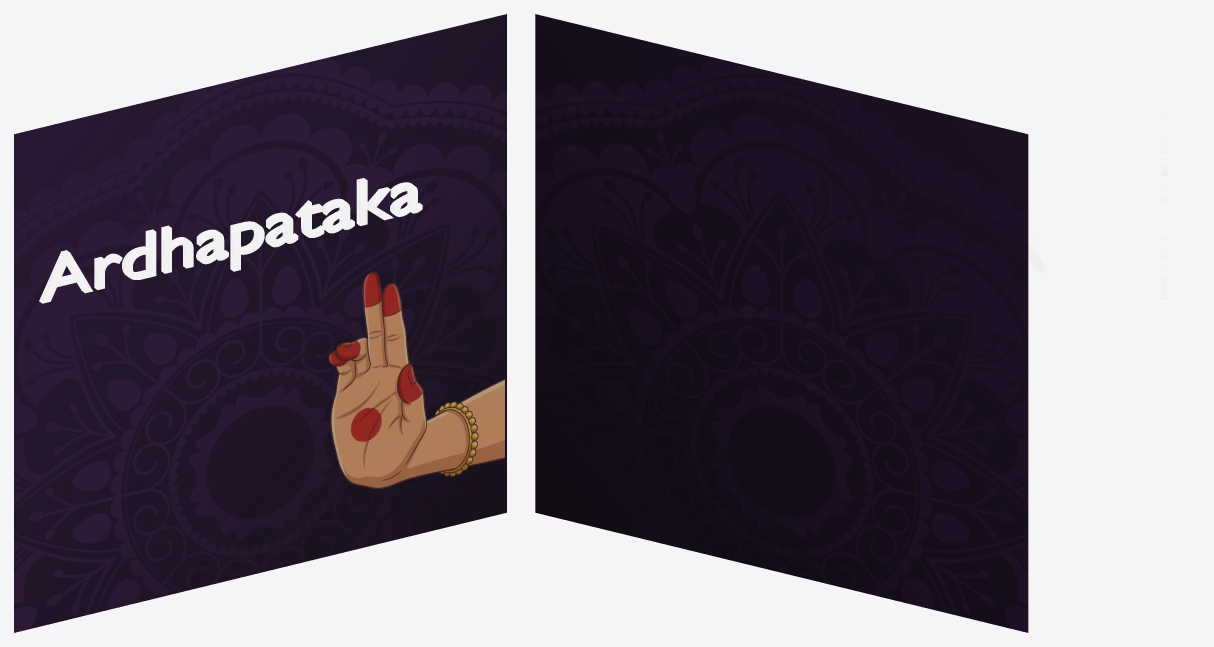
File: Ardhapataka.glb
3 renders of one model, left to right at view 1: azimuth 30°, elevation 25°; view 2: azimuth 150°, elevation 25°; view 3: azimuth 270°, elevation 25°, orthographic. The views are drawn at different scales.
Visible parts, largest first — view 1: Plane.004, Plane.005, Text.002; view 2: Plane.004; view 3: Text.002.
Part boxes in pixels (x1,y1,x2,y2): Plane.004: (14,14,506,632); Plane.005: (328,272,504,488); Text.002: (39,178,422,303); Plane.004: (535,14,1028,632); Text.002: (1161,117,1167,298).
Size of the model in its own units: 2.48 by 2.4 by 0.6564.
3 materials, 2 textured.
